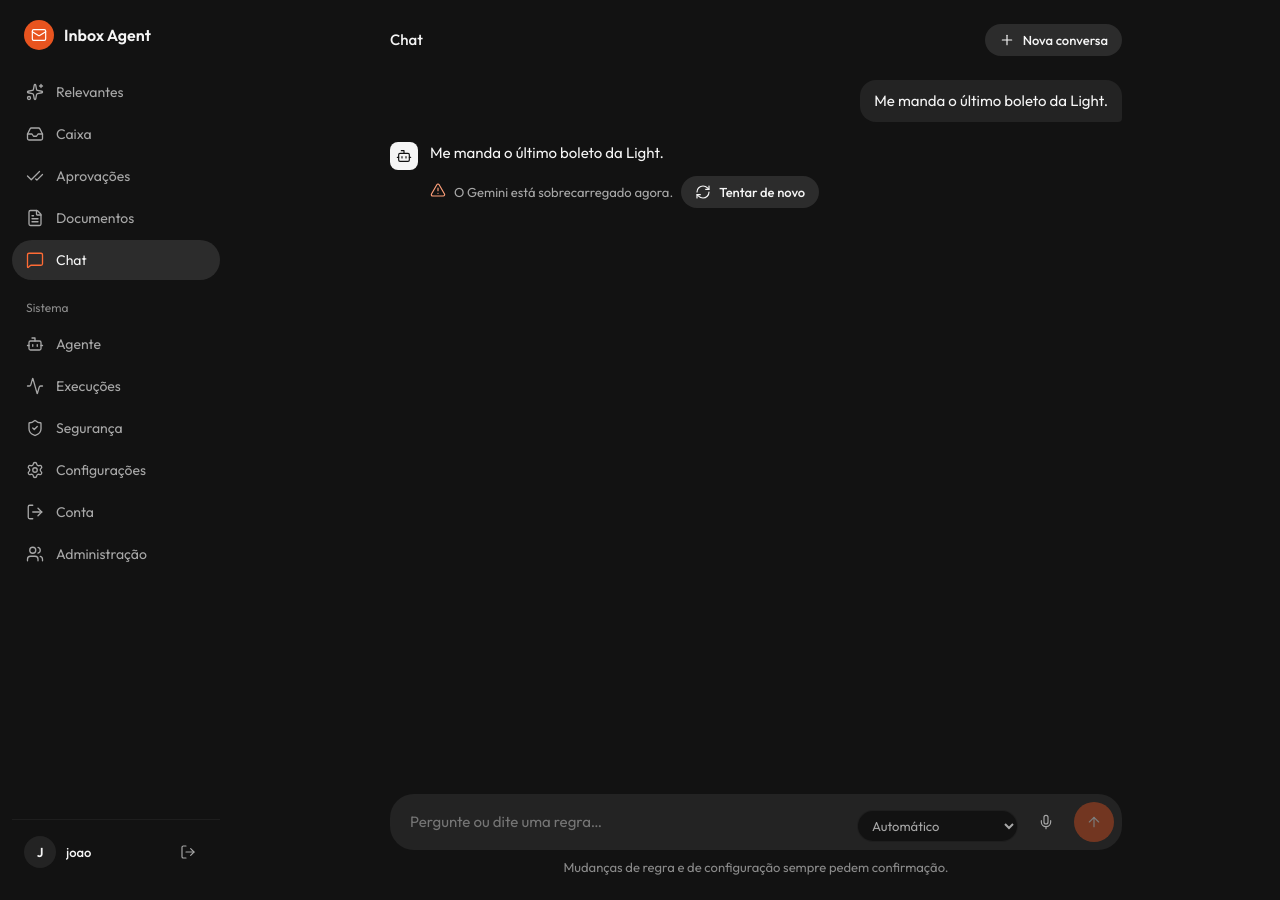
Scenario: failed_turn_retries_and_streams_new_answer
Check: the text "O Gemini está sobrecarregado agora." is shown, box x1=430 y1=182 x2=673 y2=202
Click the button "Tentar de novo" at coordinates (750, 192), box x1=681 y1=176 x2=819 y2=208
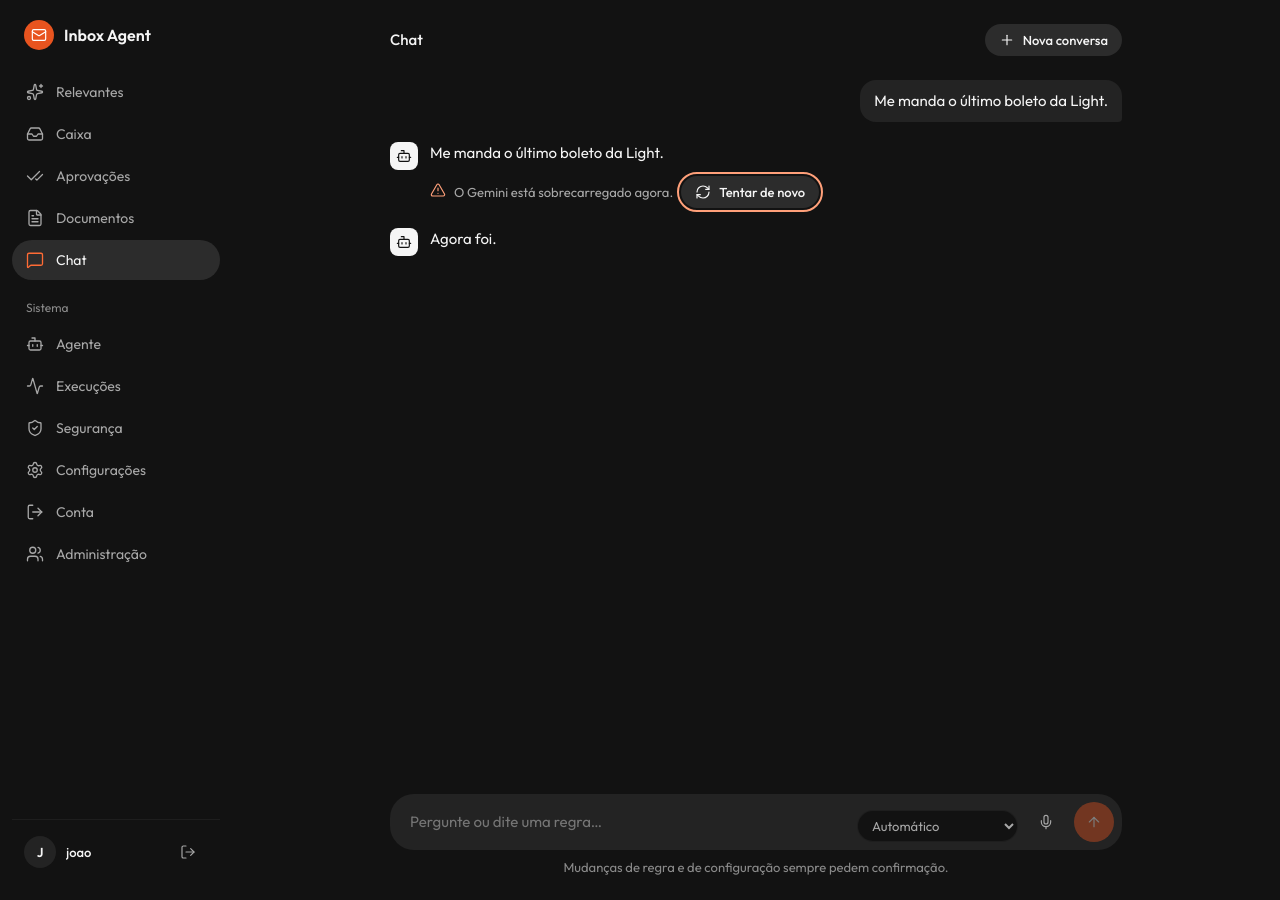
Check: the text "Agora foi." is shown, box x1=430 y1=229 x2=497 y2=248
